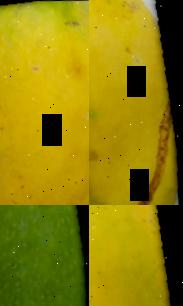PartiallyRipe: (89, 205, 183, 306)
Ripe: (89, 0, 183, 205), (0, 0, 89, 205)
Unripe: (0, 205, 89, 306)
